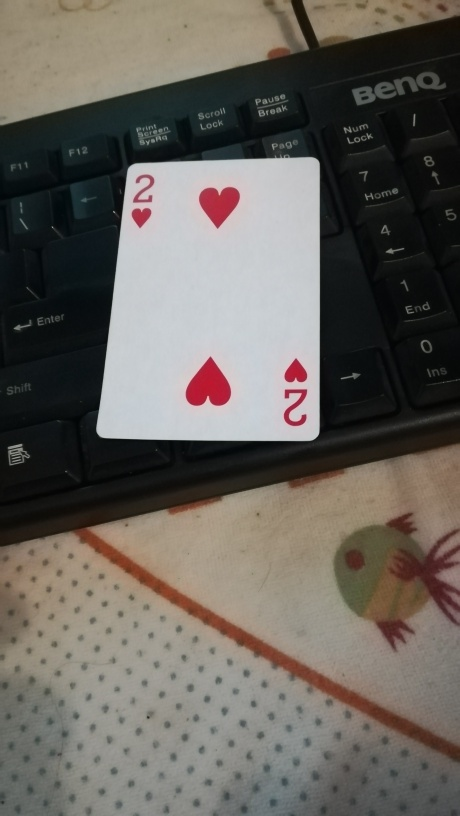hx 2: (95, 157, 321, 446)
